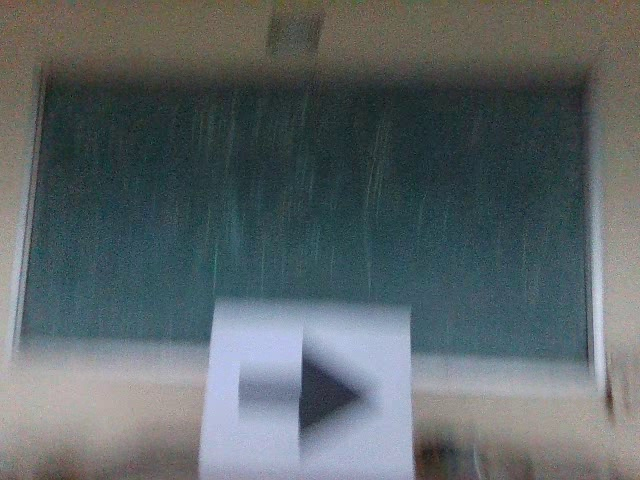Right: (233, 322, 382, 459)
